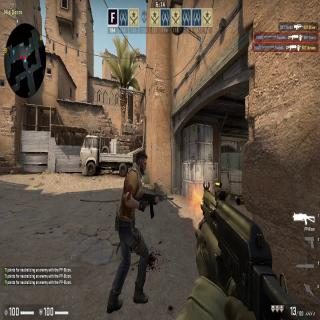CT-Body: (118, 152, 148, 304)
CT-Head: (136, 151, 146, 176)
